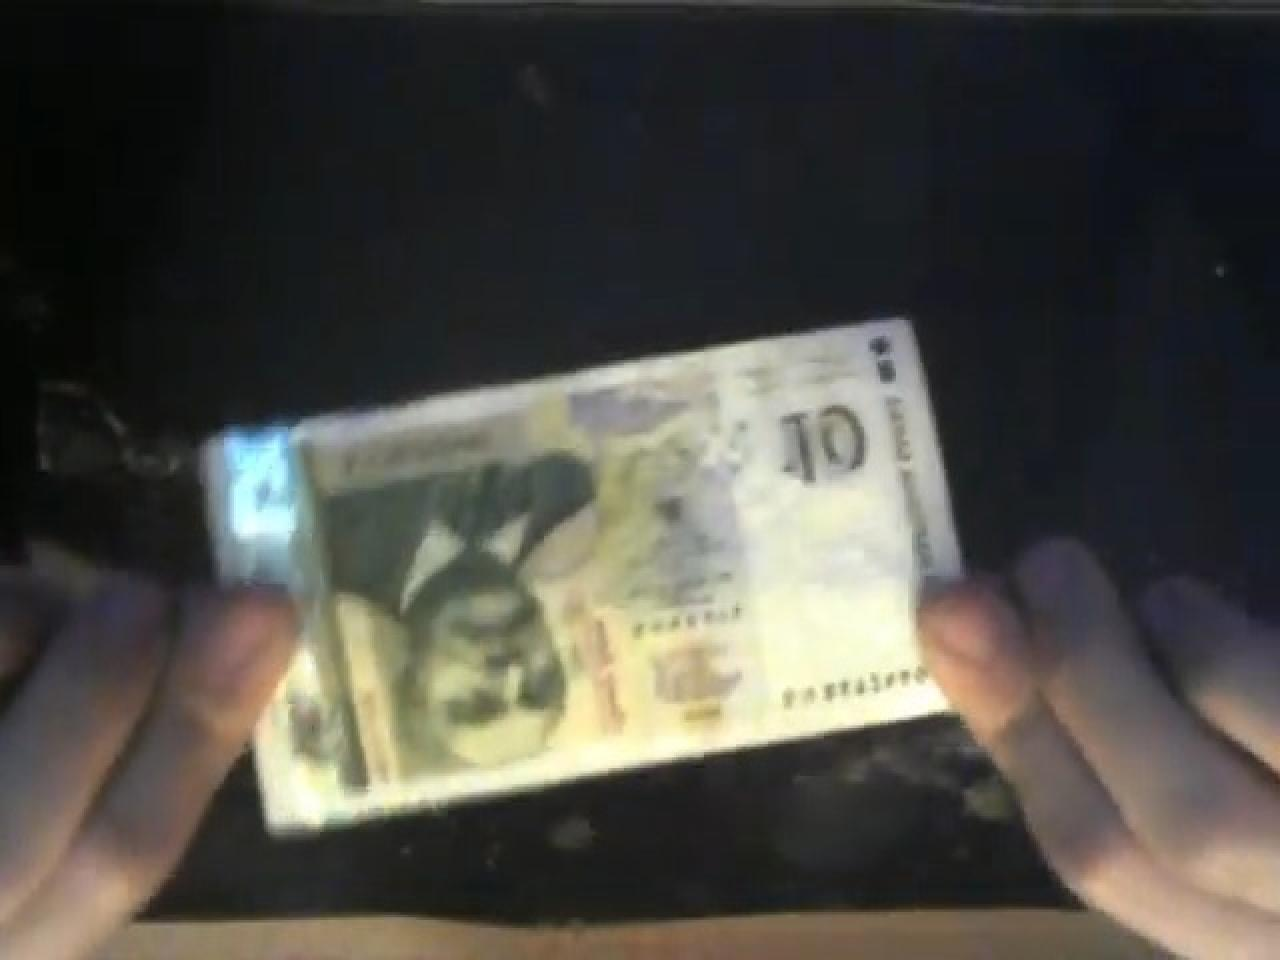10leva: (228, 310, 962, 835)
